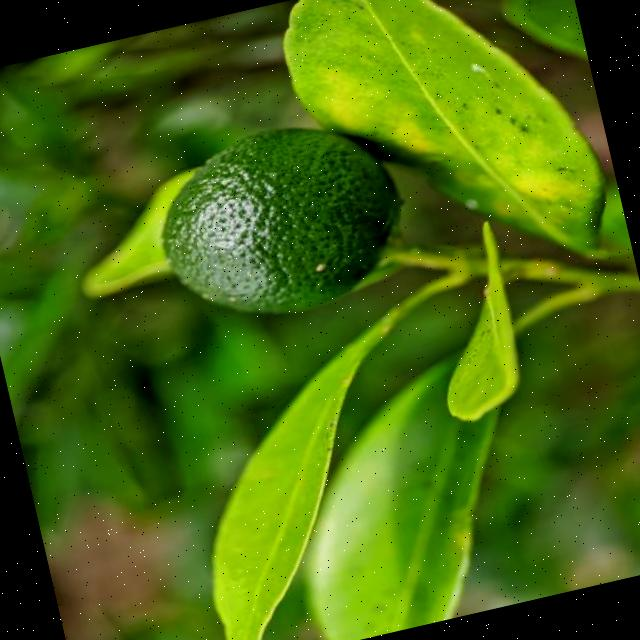Unripe: (140, 108, 414, 339)
